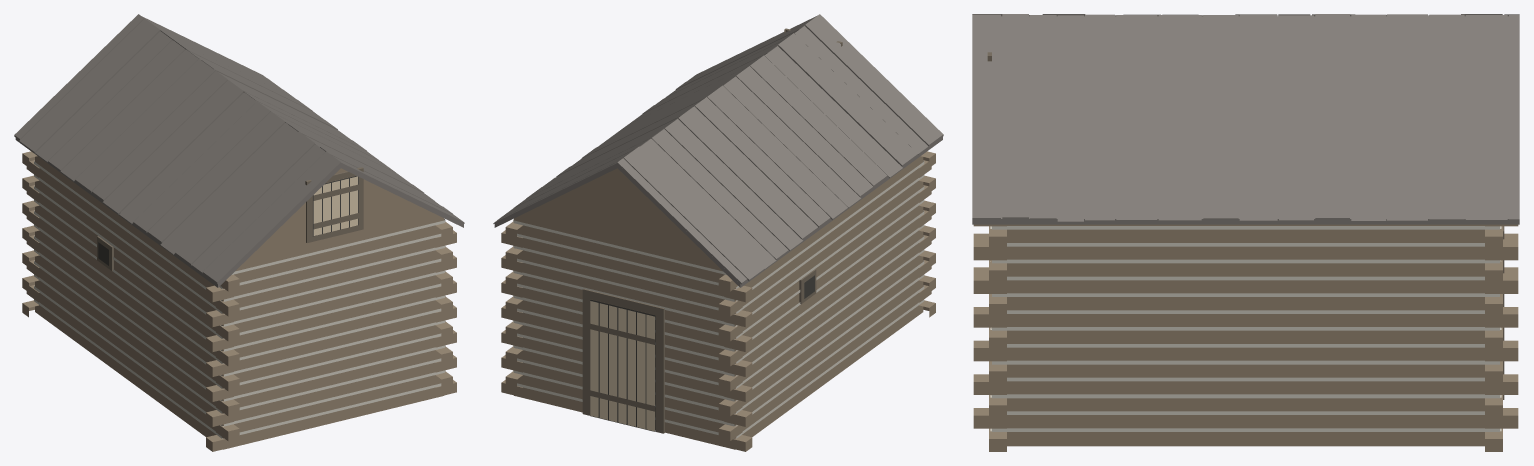
File: recon_1835_blk_south_water_franklin_a1_06__inferred_1835.glb
3 views of the same model, side by side, from view 1: azimuth 30°, elevation 25°; view 2: azimuth 150°, elevation 25°; view 3: azimuth 270°, elevation 25° (orthographic). The views are drawn at different scales.
Visible parts, largest first — view 1: recon_1835_blk_south_water_franklin_a1_06__inferred_1835; view 2: recon_1835_blk_south_water_franklin_a1_06__inferred_1835; view 3: recon_1835_blk_south_water_franklin_a1_06__inferred_1835.
Part boxes in pixels (x1,y1,x2,y2): recon_1835_blk_south_water_franklin_a1_06__inferred_1835: [14, 14, 464, 451]; recon_1835_blk_south_water_franklin_a1_06__inferred_1835: [493, 14, 943, 451]; recon_1835_blk_south_water_franklin_a1_06__inferred_1835: [972, 14, 1519, 451].
Bounding box in the file's own units: 5.18 × 5.24 × 7.23.
